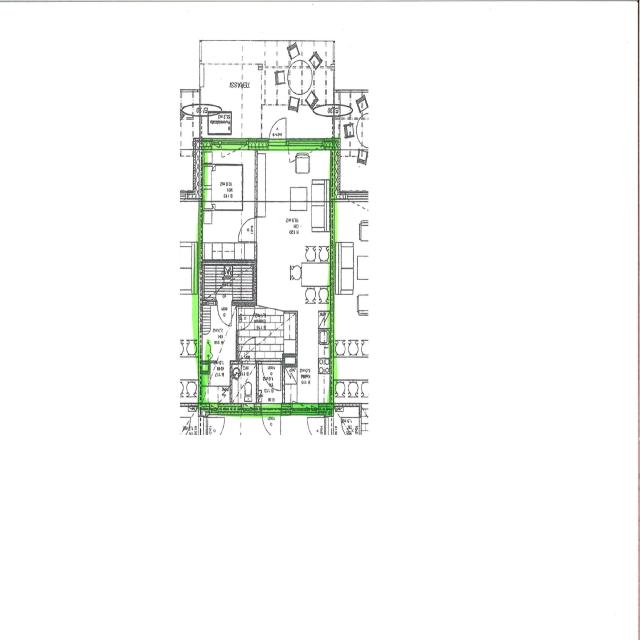door: (262, 404, 280, 442), (268, 114, 286, 150), (262, 360, 280, 390), (238, 218, 258, 241), (239, 337, 255, 363), (236, 308, 254, 330), (217, 300, 231, 325)
